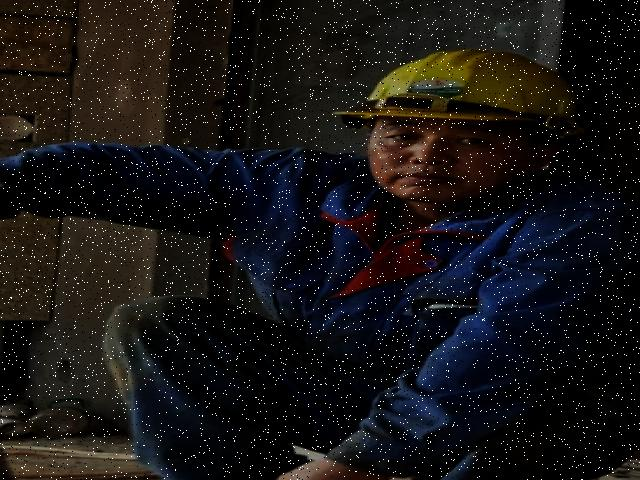Helmet: (320, 42, 599, 140)
